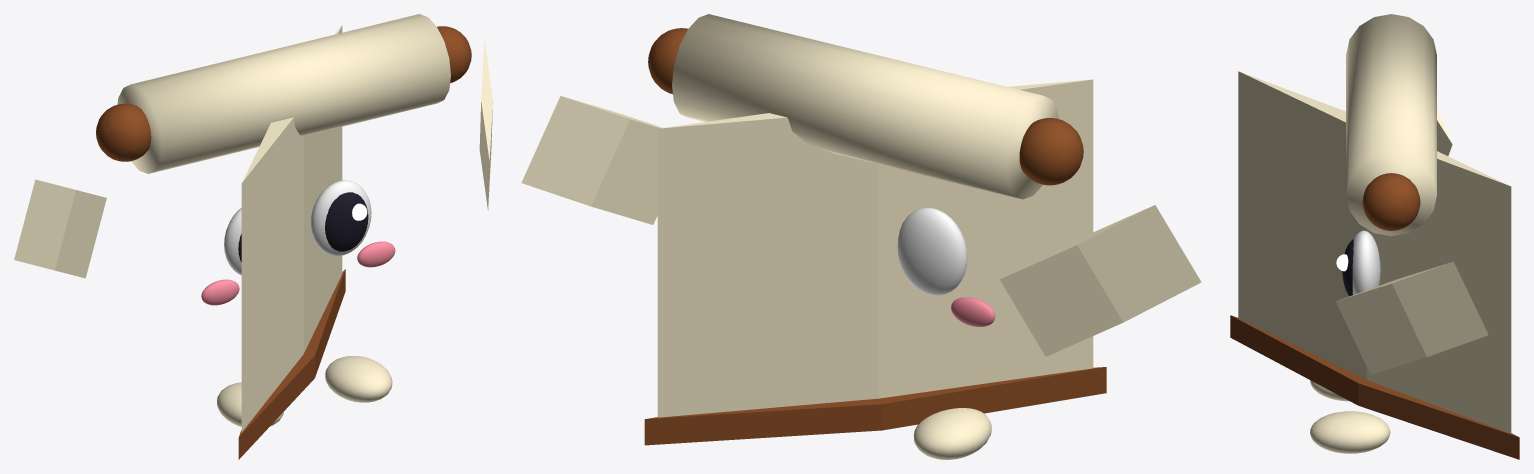
The picture shows the model from 3 angles, left to right: view 1: azimuth 30°, elevation 25°; view 2: azimuth 150°, elevation 25°; view 3: azimuth 270°, elevation 25°; orthographic projection. The views are drawn at different scales.
Parts seen in each view (by area): view 1: Blush1, Edge, EyeW1, Eye1; view 2: Blush1, Edge, EyeW1; view 3: Blush1, Edge, EyeW1, Eye1.
Boxes of the visible parts, x1=… form: Blush1: x1=14, y1=14, x2=492, y2=432; Edge: x1=96, y1=26, x2=471, y2=459; EyeW1: x1=224, y1=180, x2=371, y2=275; Eye1: x1=238, y1=192, x2=368, y2=262; Blush1: x1=521, y1=14, x2=1201, y2=459; Edge: x1=644, y1=28, x2=1106, y2=445; EyeW1: x1=897, y1=207, x2=967, y2=295; Blush1: x1=1238, y1=14, x2=1511, y2=453; Edge: x1=1230, y1=173, x2=1519, y2=459; EyeW1: x1=1352, y1=230, x2=1380, y2=294; Eye1: x1=1342, y1=239, x2=1353, y2=296.
Bounding box in the file's own units: 1.46 × 0.905 × 0.7001.
Materials: 5 (5 with a texture image).
